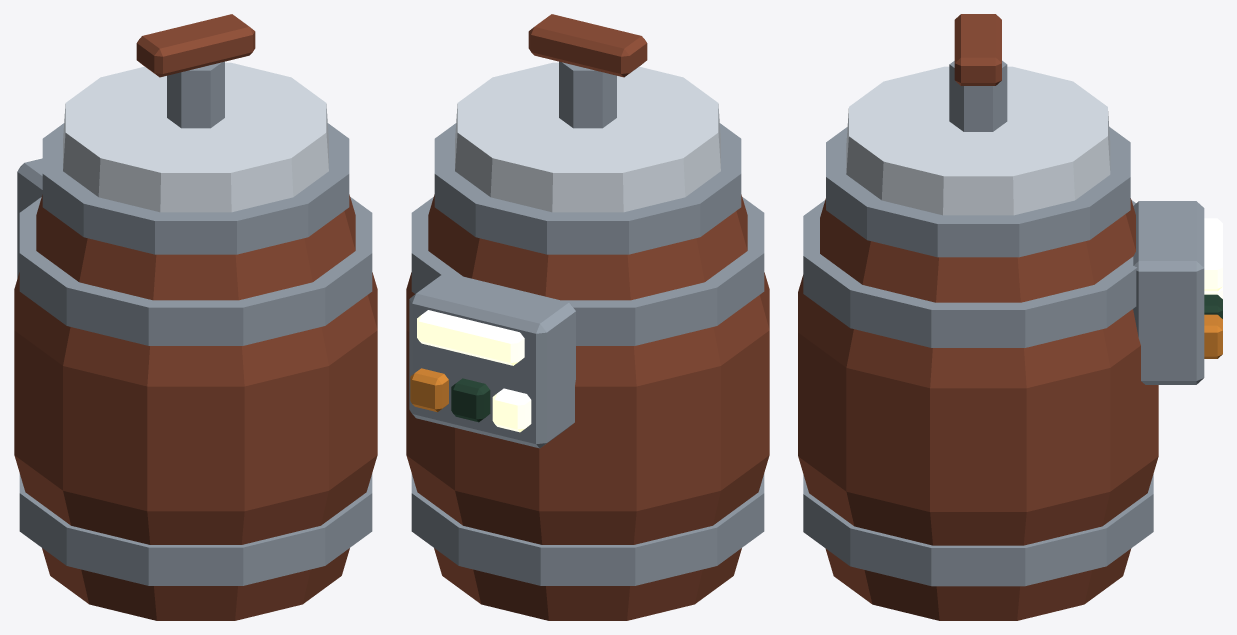
File: Prop_Barrel.fbx
3 views of the same model, side by side, from view 1: azimuth 30°, elevation 25°; view 2: azimuth 150°, elevation 25°; view 3: azimuth 270°, elevation 25° (orthographic).
Parts seen in each view (by area): view 1: Prop_Barrel; view 2: Prop_Barrel; view 3: Prop_Barrel.
Boxes of the visible parts, bbox=[...] form: Prop_Barrel: bbox=[14, 14, 377, 620]; Prop_Barrel: bbox=[406, 14, 769, 620]; Prop_Barrel: bbox=[798, 14, 1222, 620].
Bounding box in the file's own units: 68.58 × 110 × 80.79.
